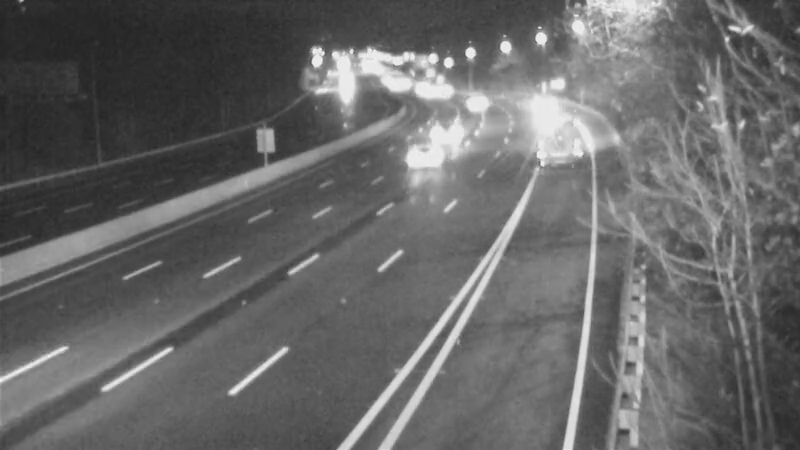vehicle: (396, 114, 476, 194), (513, 77, 563, 127), (447, 79, 497, 129), (431, 106, 481, 156), (529, 120, 579, 170)
